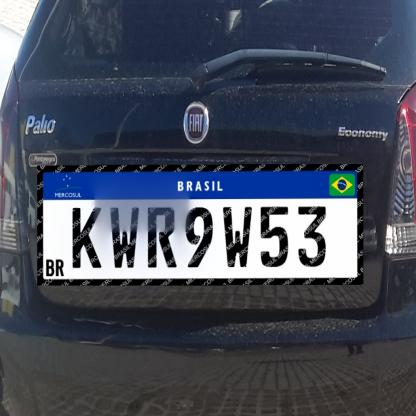PlacaM: (38, 164, 364, 286)
